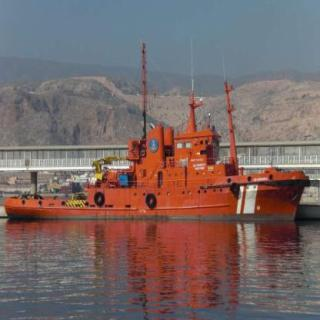Tug Boat: (9, 31, 308, 220)
